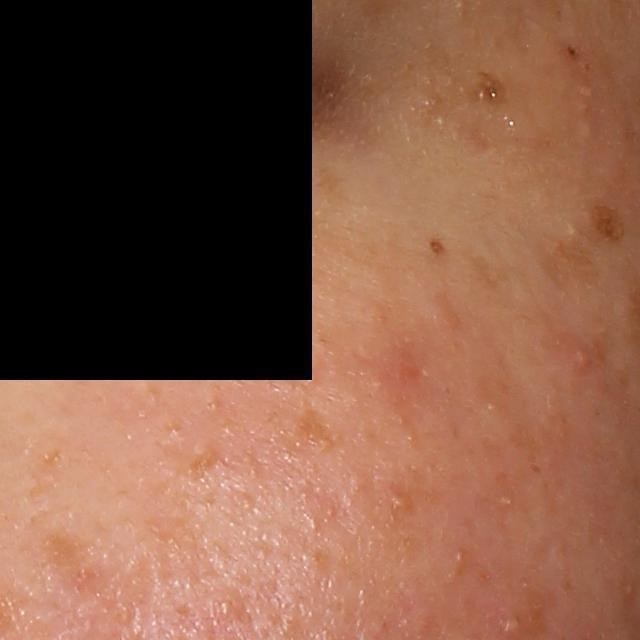melasma: (533, 232, 607, 288), (36, 530, 91, 575), (289, 406, 337, 455), (588, 201, 628, 244), (471, 69, 505, 104)
nevus: (428, 236, 447, 258)
papule: (573, 346, 593, 370)
